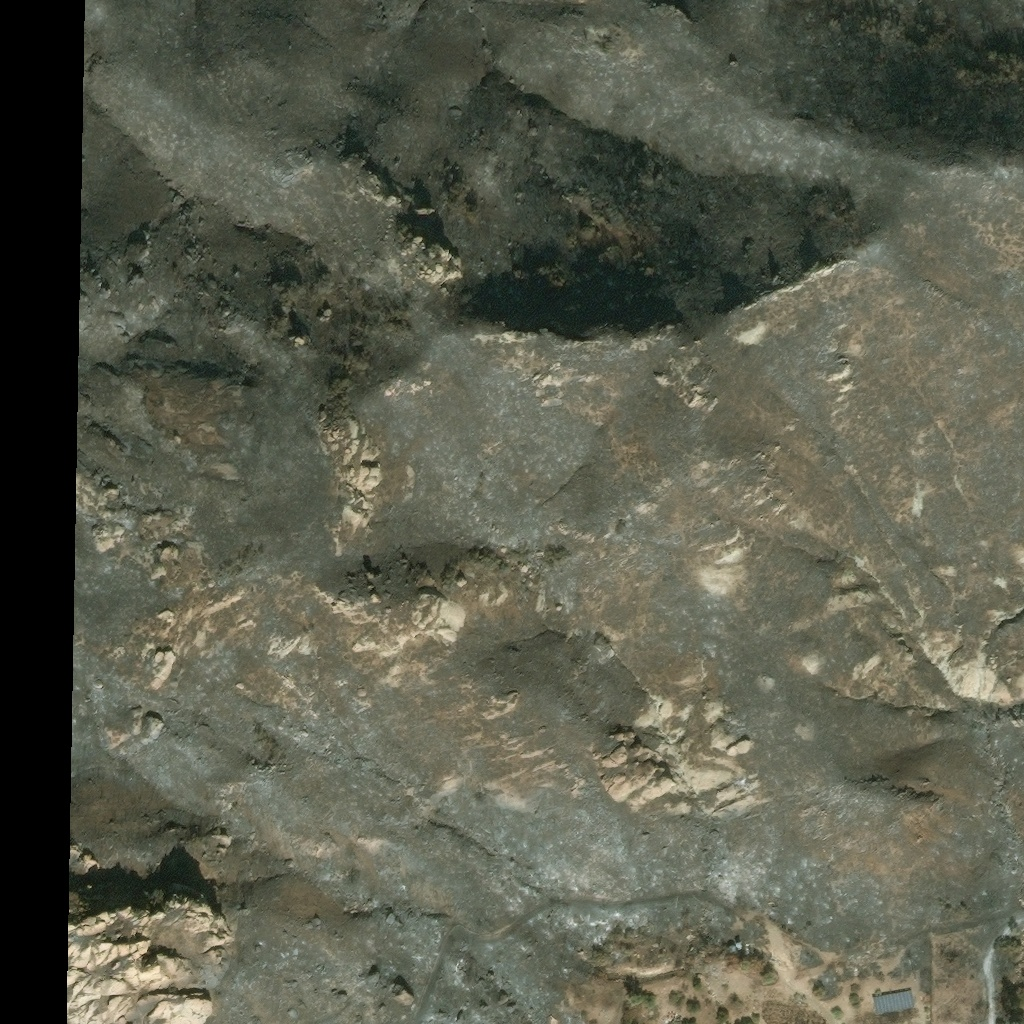0 no-damage: (873, 990, 916, 1015)
3 destroyed: (728, 947, 738, 956), (746, 945, 756, 954)
